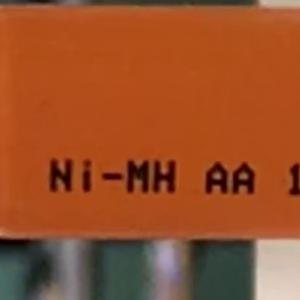NI-MH: (39, 151, 185, 202)
